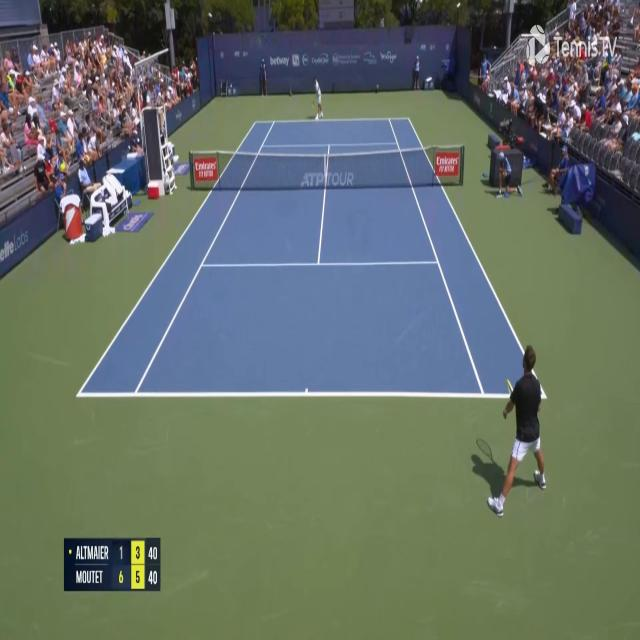tennis-player: (494, 342, 550, 519), (310, 75, 324, 122)
